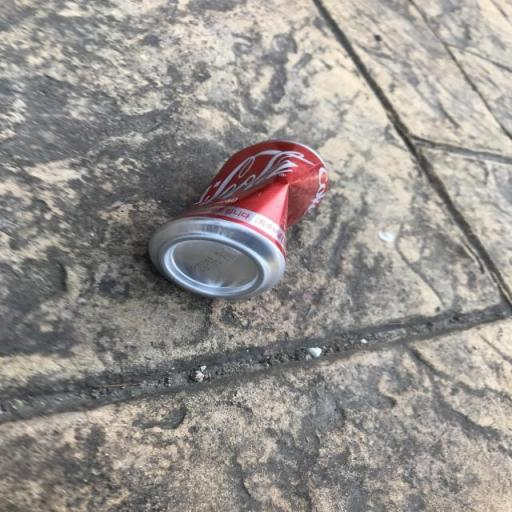metal: (118, 127, 359, 317)
